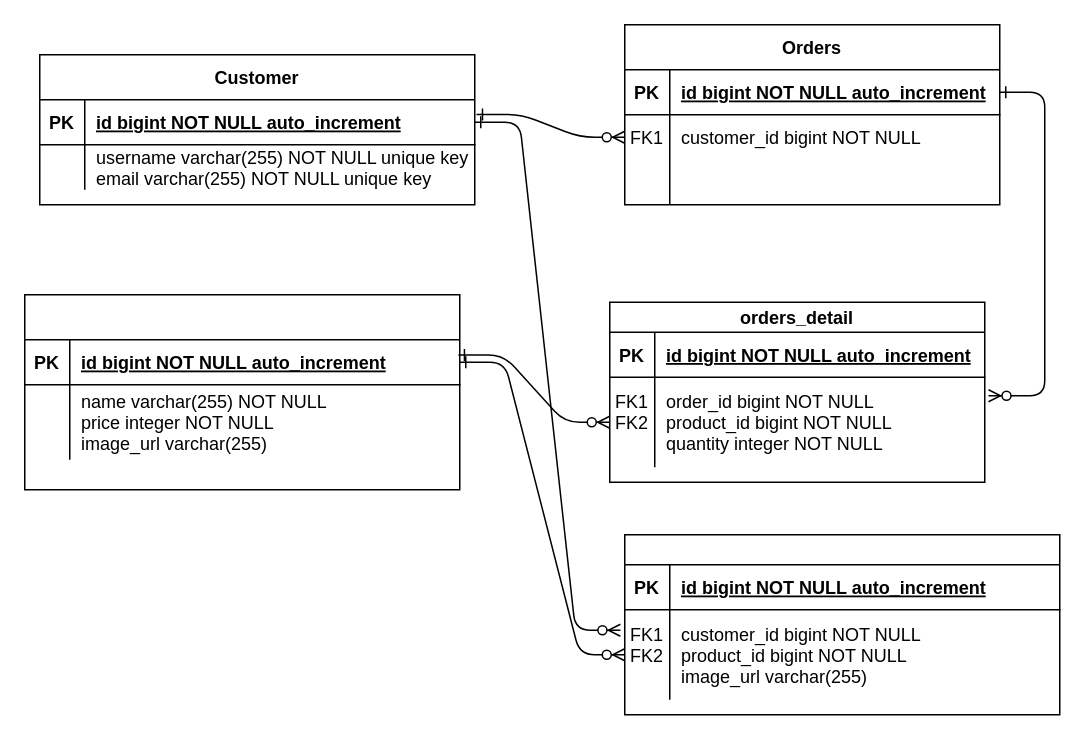
The diagram is 1085 pixels wide and 740 high, and some of its shapes have lost their labels. Here are the shapes that lost their labels. From the top down, the box of each, then its label:
(23, 293, 460, 490): Product
(623, 533, 1060, 715): cart_item
